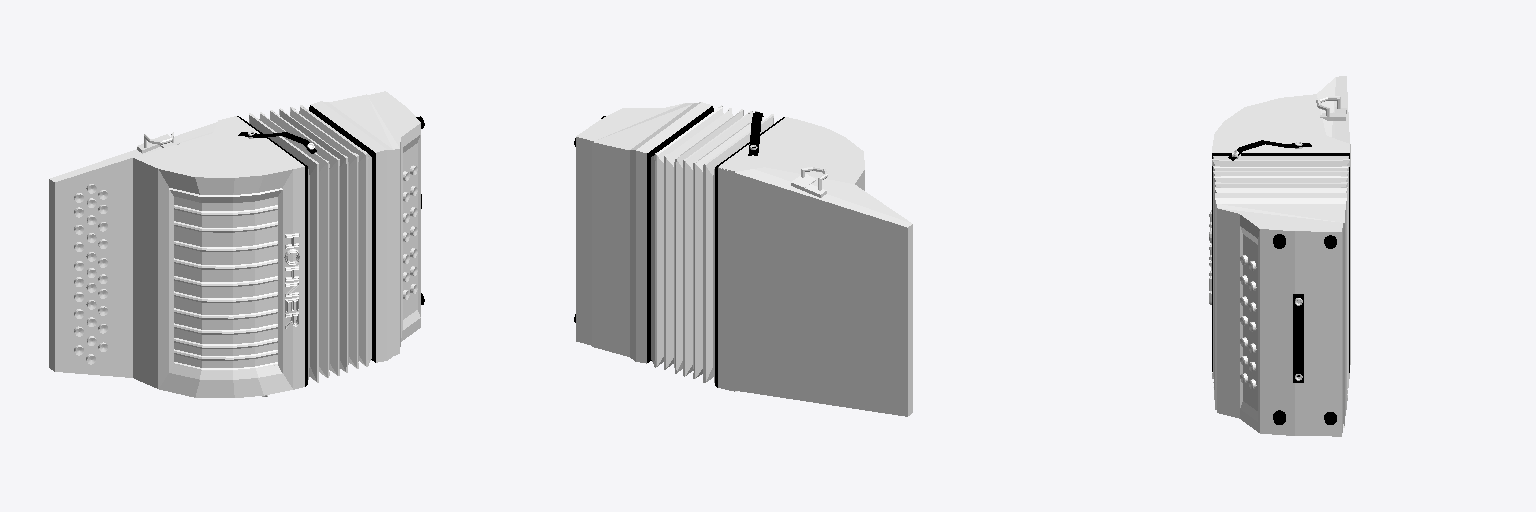
Rendered from acordion.obj.
The picture shows the model from 3 angles: view 1: azimuth 30°, elevation 25°; view 2: azimuth 150°, elevation 25°; view 3: azimuth 270°, elevation 25°; orthographic projection.
Parts seen in each view (by area): view 1: accordion 1; view 2: accordion 1; view 3: accordion 1.
Boxes of the visible parts, <box> form: accordion 1: <box>49,91,424,397</box>; accordion 1: <box>574,102,912,416</box>; accordion 1: <box>1209,76,1350,436</box>.
Size of the model in its own units: 130 by 89.02 by 45.99.